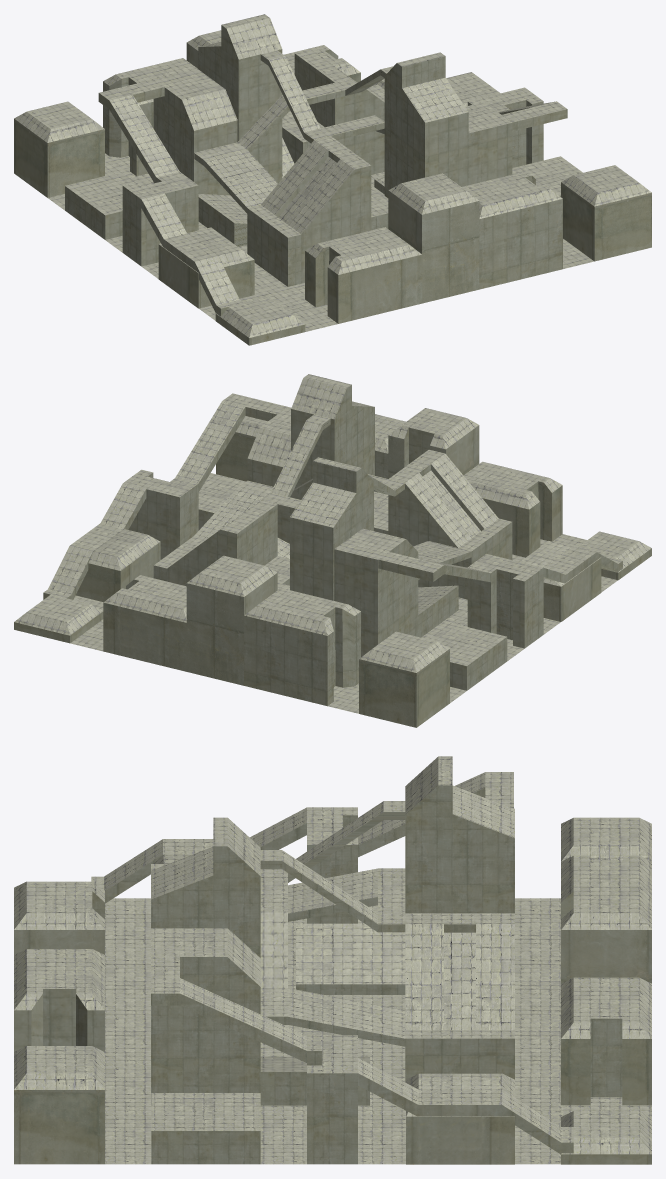
File: SM_LDFest_26_00.fbx
3 renders of one model, top to bottom at view 1: azimuth 30°, elevation 25°; view 2: azimuth 150°, elevation 25°; view 3: azimuth 270°, elevation 25°, orthographic. The views are drawn at different scales.
Visible parts, largest first — view 1: SM_LDFest_26_00; view 2: SM_LDFest_26_00; view 3: SM_LDFest_26_00.
Boxes of the visible parts, x1,y1,x2,y2 form: SM_LDFest_26_00: (14, 14, 651, 345); SM_LDFest_26_00: (14, 374, 651, 727); SM_LDFest_26_00: (14, 756, 651, 1164).
Size of the model in its own units: 5265 by 2120 by 5327.
